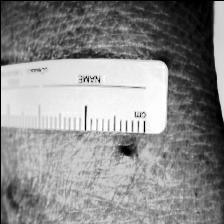Potentially Malignant Skin Tumors: (104, 141, 148, 171)
